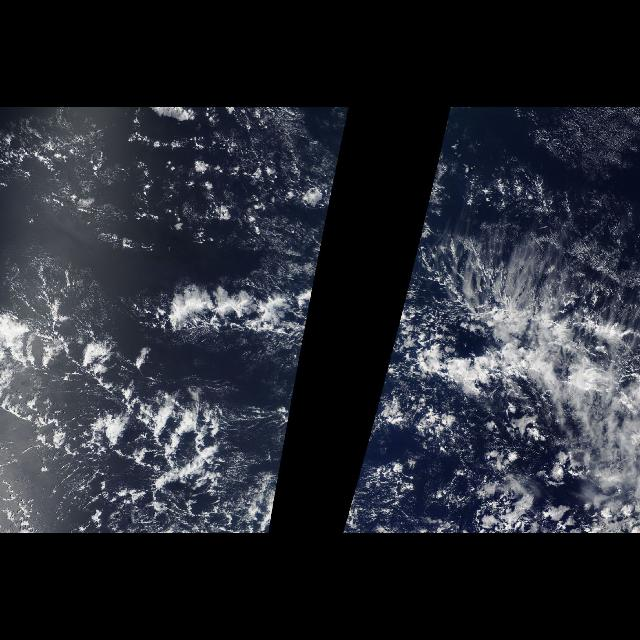Fish: (358, 219, 640, 467), (132, 219, 328, 467)
Sugar: (210, 349, 302, 487), (244, 213, 328, 287)
